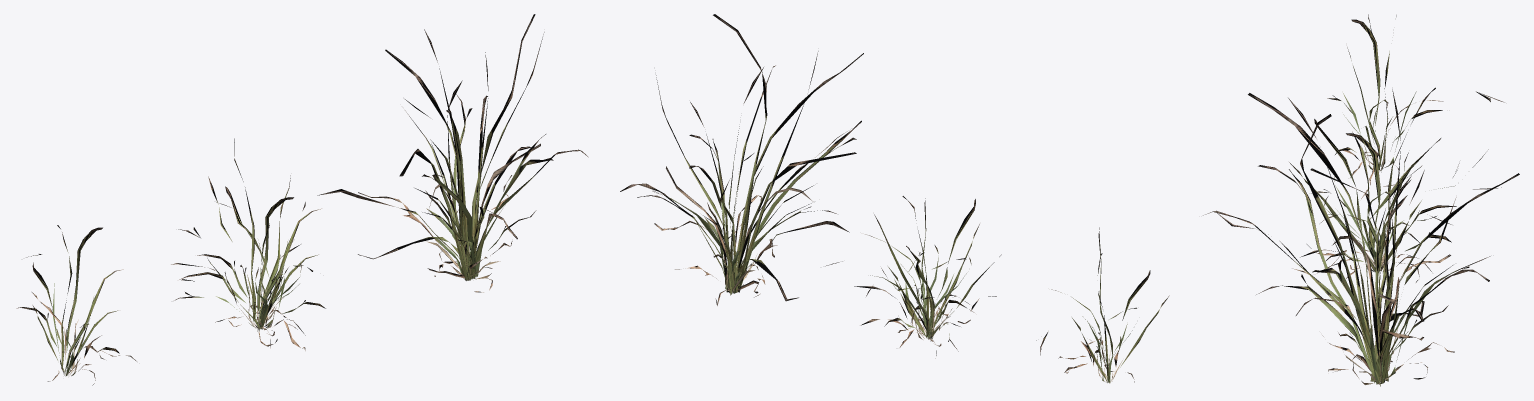
Rendered from grass_medium_02_v3.glb.
3 renders of one model, left to right at view 1: azimuth 30°, elevation 25°; view 2: azimuth 150°, elevation 25°; view 3: azimuth 270°, elevation 25°, orthographic. The views are drawn at different scales.
Visible parts, largest first — view 1: lod0; view 2: lod0; view 3: lod0.
Part boxes in pixels (<box>): lod0: <box>16,14,588,385</box>; lod0: <box>620,14,1169,383</box>; lod0: <box>1203,14,1519,386</box>.
Size of what is drawn, in the model's own units: 0.8298 by 0.4053 by 0.402.
Materials: 1 (1 with a texture image).
